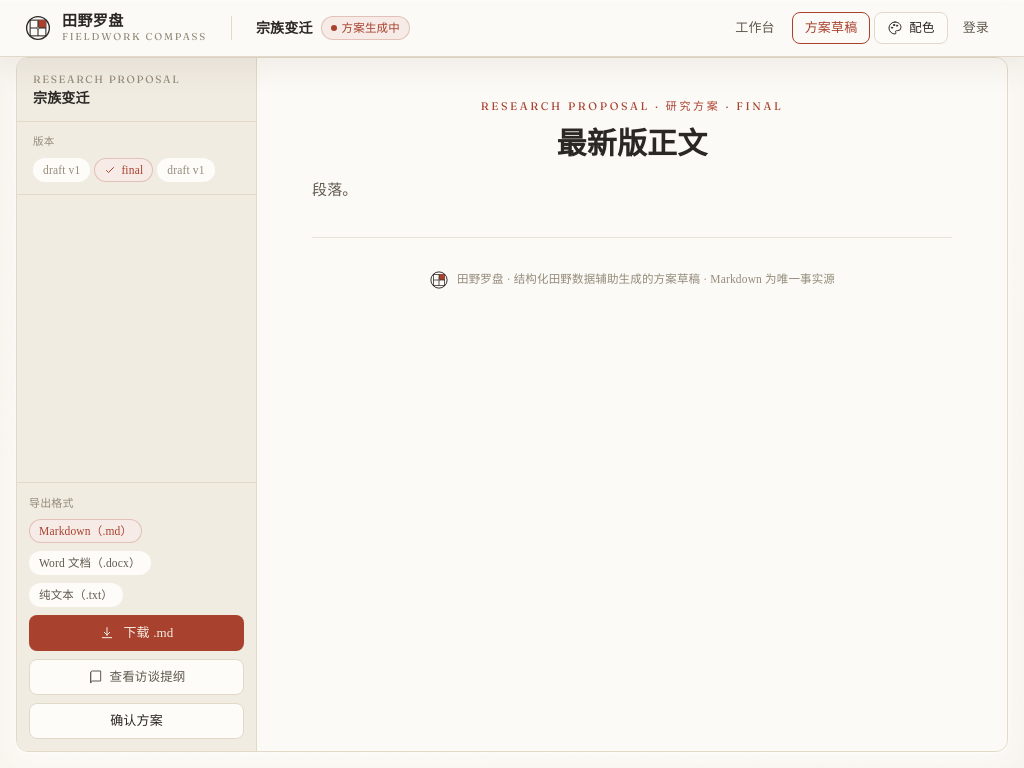
Test: ProposalView 版本/kind 加载与方案确认 › 点版本 chip 后按 id 加载对应正文（F13）
expect the heading "最新版正文" is shown: met, box [557,126,707,160]
VERSIONS 顺序 [V1, LATEST, GUIDE]：DOM 中第一枚「draft v1」即 prop_1
Step 1. Click the 1st button "draft v1" → (62, 170), box [33,158,90,182]
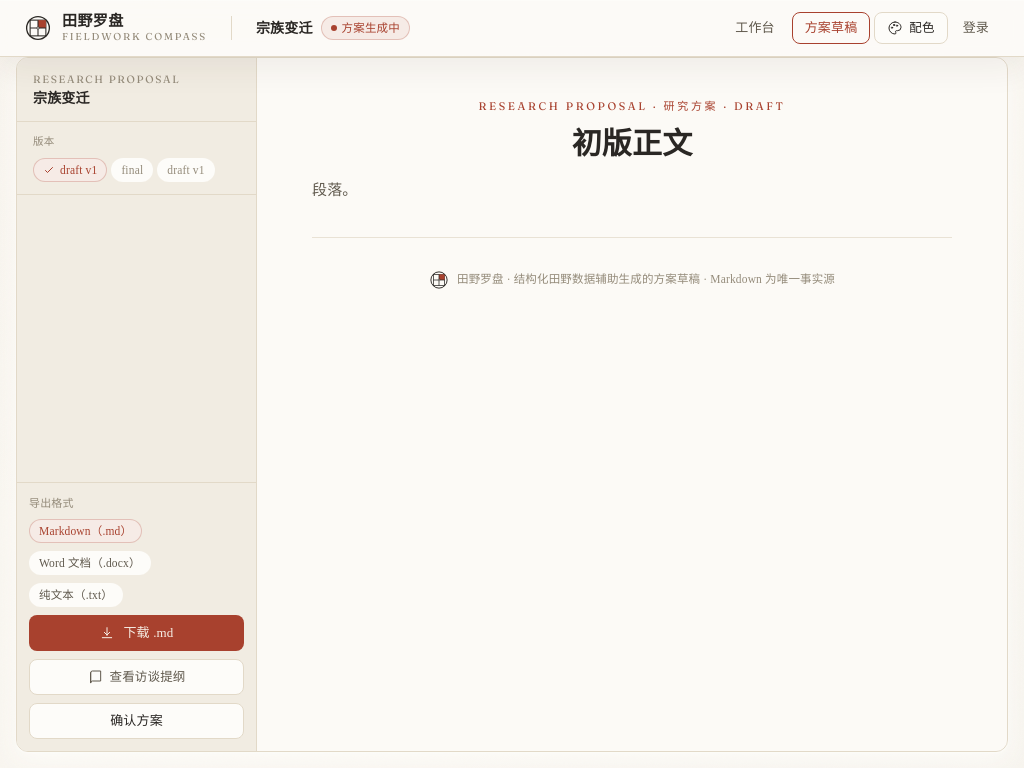
expect the heading "初版正文" is shown: met, box [572,126,692,160]
